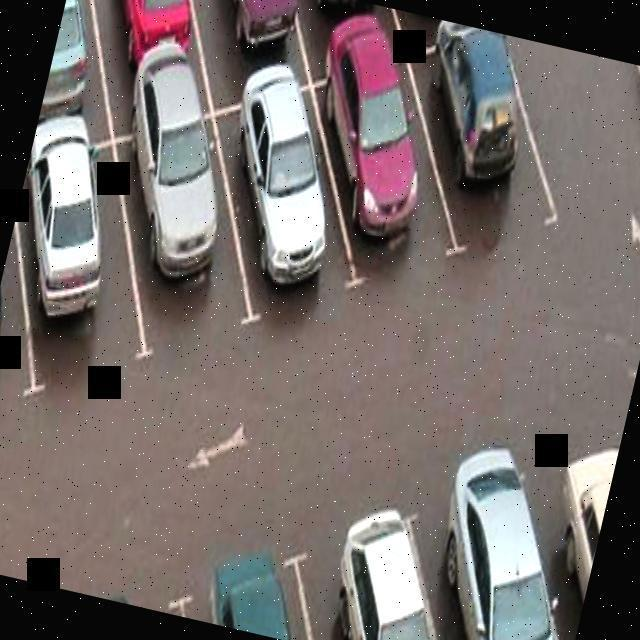car: (271, 19, 479, 324), (77, 70, 276, 378), (366, 13, 570, 264), (0, 134, 158, 421), (194, 75, 369, 333), (401, 460, 600, 640), (288, 485, 471, 640), (55, 0, 226, 143), (513, 422, 622, 640), (0, 155, 71, 484), (181, 509, 343, 640), (158, 0, 322, 126), (27, 0, 137, 179), (263, 0, 409, 108), (358, 3, 490, 84), (591, 60, 640, 187)
